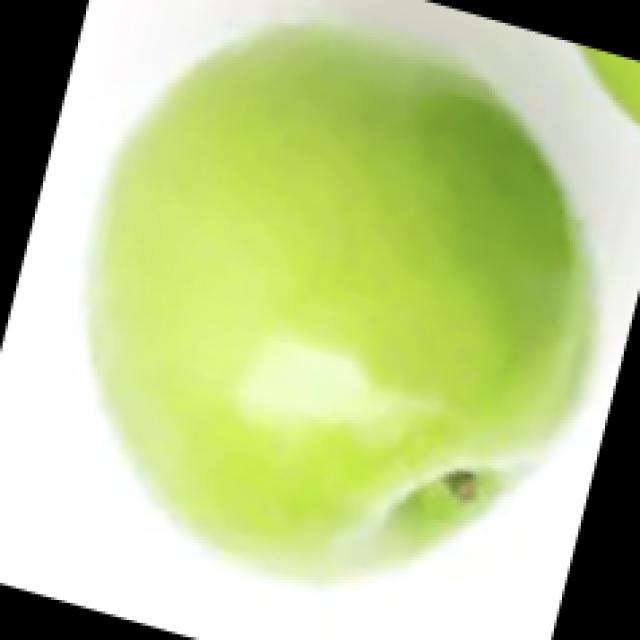Fresh Apple: (88, 35, 607, 560)
